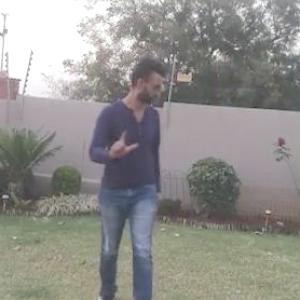land_hand: (106, 125, 140, 158)
